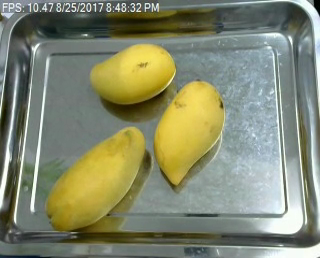Mango: (41, 123, 149, 233), (146, 78, 227, 190), (86, 38, 179, 107)
